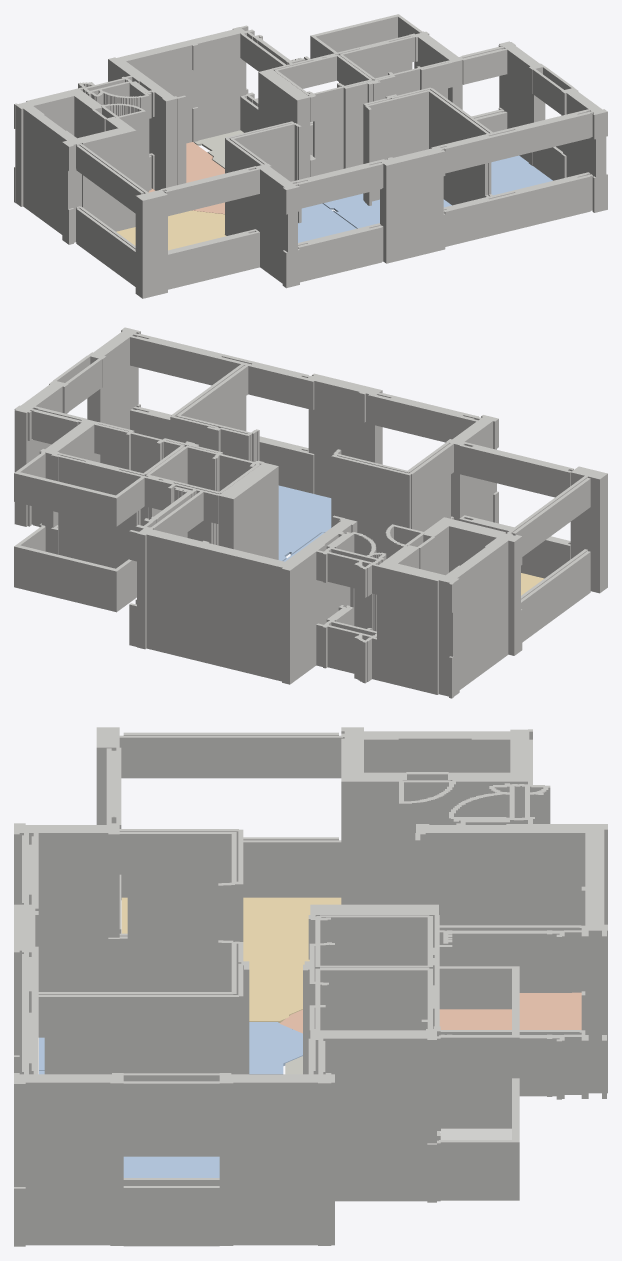
The picture shows the model from 3 angles, top to bottom: view 1: azimuth 30°, elevation 25°; view 2: azimuth 150°, elevation 25°; view 3: azimuth 270°, elevation 25°; orthographic projection. The views are drawn at different scales.
Visible parts, largest first — view 1: walls, room:living:3, room:bedroom:9, room:bedroom:7, room:bedroom:8, room:kitchen:0, room:yard:4; view 2: walls, room:bedroom:8; view 3: walls, room:living:3, room:kitchen:0, room:bedroom:7, room:bedroom:9, room:ledge:1.
Part boxes in pixels (bbox=[...]): walls: bbox=[14, 14, 607, 298]; room:living:3: bbox=[116, 210, 226, 250]; room:bedroom:9: bbox=[491, 155, 552, 195]; room:bedroom:7: bbox=[298, 203, 356, 242]; room:bedroom:8: bbox=[322, 193, 451, 228]; room:kitchen:0: bbox=[148, 142, 224, 214]; room:yard:4: bbox=[194, 130, 243, 168]; walls: bbox=[14, 327, 607, 698]; room:bedroom:8: bbox=[278, 485, 331, 560]; walls: bbox=[14, 727, 607, 1246]; room:living:3: bbox=[121, 897, 341, 1022]; room:kitchen:0: bbox=[280, 992, 581, 1033]; room:bedroom:7: bbox=[39, 1022, 302, 1074]; room:bedroom:9: bbox=[123, 1156, 219, 1177]; room:ledge:1: bbox=[440, 1128, 511, 1139].
Bounding box in the file's own units: 13.16 × 2.8 × 9.26.
